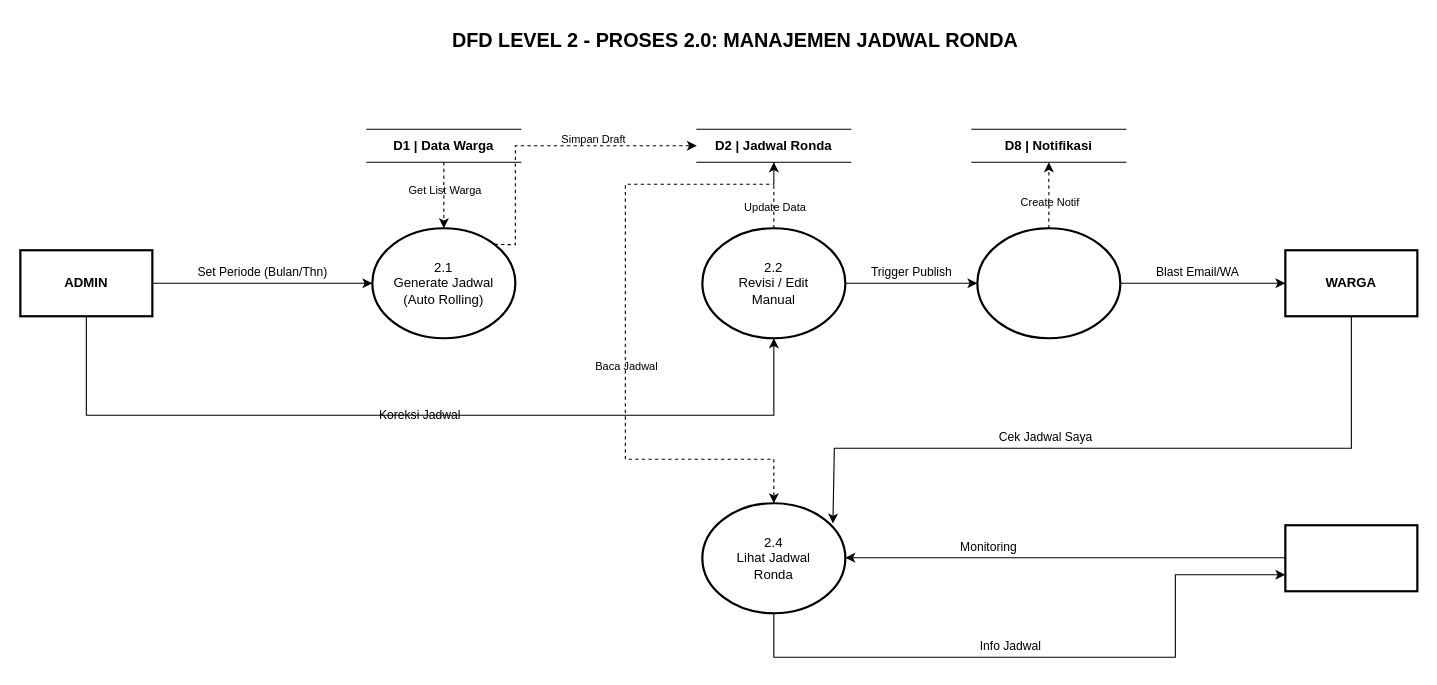
Some shapes in this 1437 by 685 pixel diagram are drawn without their labels. The centre of each missing label's shape, as x and y in pixels:
"2.3 Publikasi & Kirim Notifikasi" belongs at point (1048, 283).
"KETUA RT" belongs at point (1351, 558).
